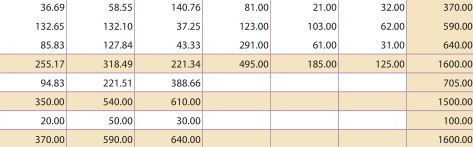column: (439, 1, 472, 147), (34, 1, 66, 147), (103, 1, 135, 147), (238, 1, 270, 147), (171, 1, 202, 147), (307, 1, 337, 147), (376, 1, 406, 147)
row: (1, 78, 473, 88), (1, 3, 473, 12), (1, 60, 473, 69), (1, 97, 473, 106), (1, 22, 473, 30), (1, 41, 473, 49), (1, 117, 473, 125), (1, 135, 473, 143)
